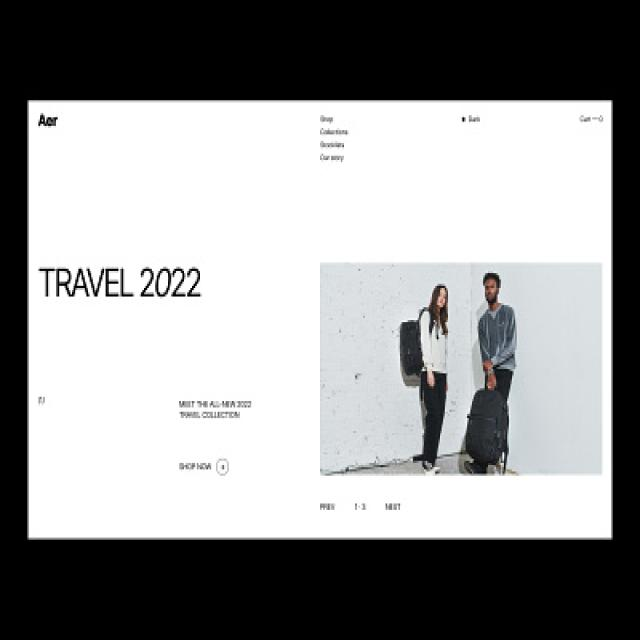backpack: (465, 387, 508, 466), (399, 308, 430, 387)
